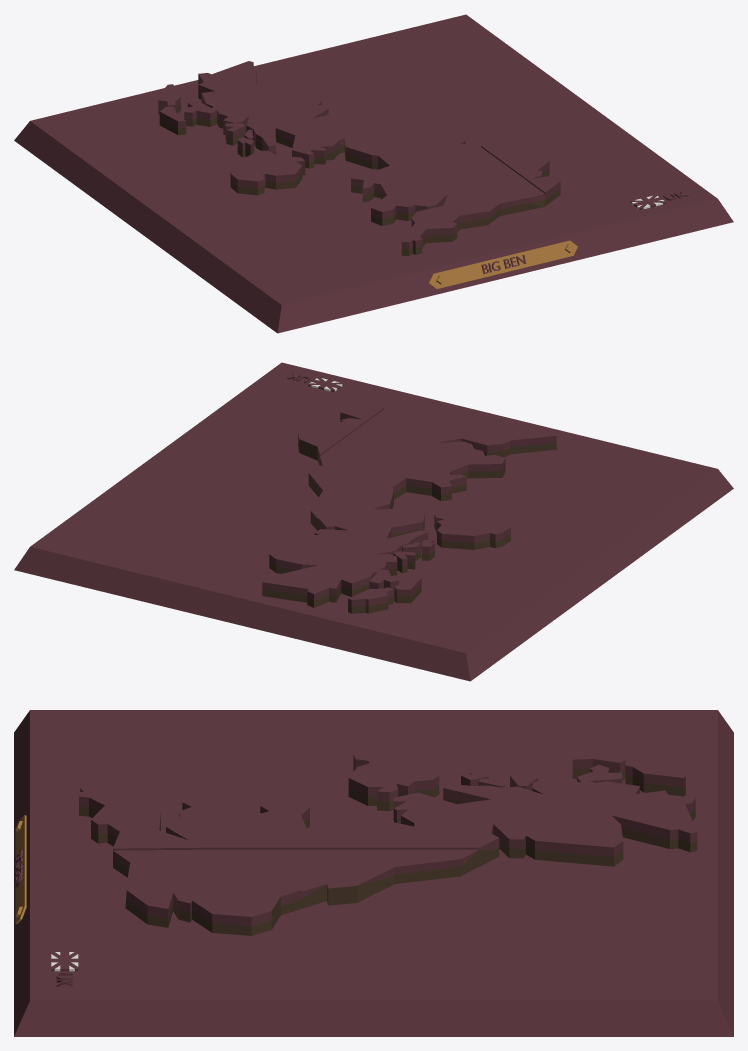
Rendered from SM_Island_BigBen_Landmark.fbx.
The picture shows the model from 3 angles, top to bottom: view 1: azimuth 30°, elevation 25°; view 2: azimuth 150°, elevation 25°; view 3: azimuth 270°, elevation 25°; orthographic projection. The views are drawn at different scales.
Visible parts, largest first — view 1: Island_BigBen_Landmark; view 2: Island_BigBen_Landmark; view 3: Island_BigBen_Landmark.
Part boxes in pixels (left/top/right/bottom): Island_BigBen_Landmark: left=14, top=14, right=733, bottom=333; Island_BigBen_Landmark: left=14, top=362, right=733, bottom=681; Island_BigBen_Landmark: left=14, top=710, right=733, bottom=1036.
Size of the model in its own units: 68.5 by 5.09 by 68.5.
